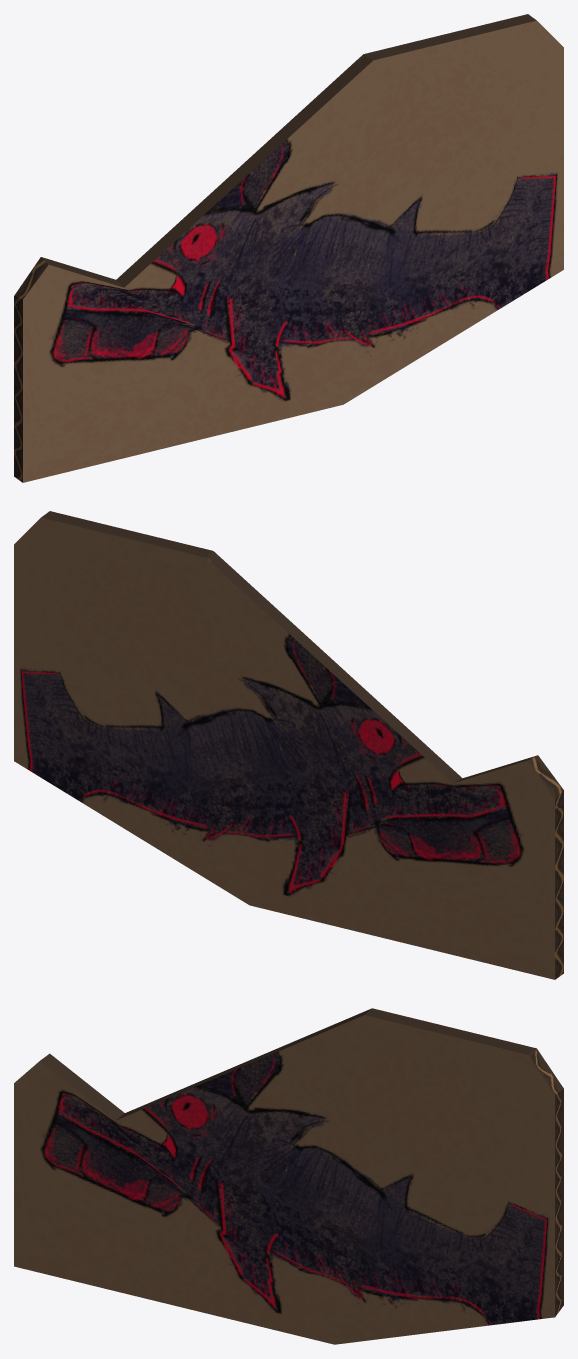
Rendered from HammerheadTHIN2.fbx.
The picture shows the model from 3 angles, top to bottom: view 1: azimuth 30°, elevation 25°; view 2: azimuth 150°, elevation 25°; view 3: azimuth 330°, elevation 25°; orthographic projection.
Visible parts, largest first — view 1: Hammerhead2; view 2: Hammerhead2; view 3: Hammerhead2.
Boxes of the visible parts, left/top/right/bottom form: Hammerhead2: left=14, top=14, right=563, bottom=482; Hammerhead2: left=14, top=511, right=563, bottom=979; Hammerhead2: left=14, top=1008, right=563, bottom=1344.
Bounding box in the file's own units: 5.29 × 3.15 × 0.1505.
